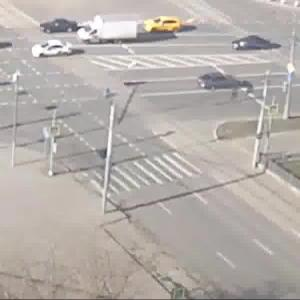car: (77, 14, 139, 50), (196, 71, 266, 96), (33, 40, 78, 65), (138, 15, 179, 37), (226, 37, 273, 56), (42, 20, 80, 39)
